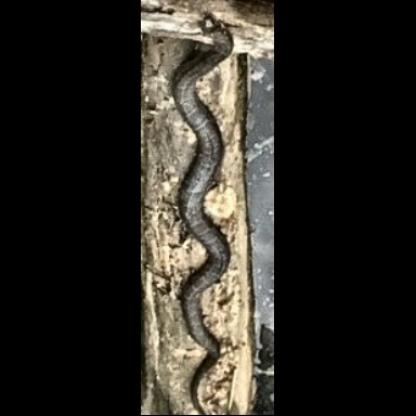Snake: (164, 10, 248, 413)
